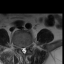CCS_normal: (22, 45, 25, 54)
LFS_normal: (27, 43, 29, 50)
LLS_stenosis: (25, 45, 26, 53)
RFS_stenosis: (18, 44, 20, 50)
RLS_stenosis: (21, 45, 23, 53)
